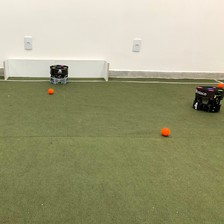ball: (158, 125, 171, 138), (46, 85, 56, 96), (216, 80, 224, 88)
goal: (1, 56, 112, 84)
robot: (190, 83, 223, 113), (47, 63, 71, 84)
